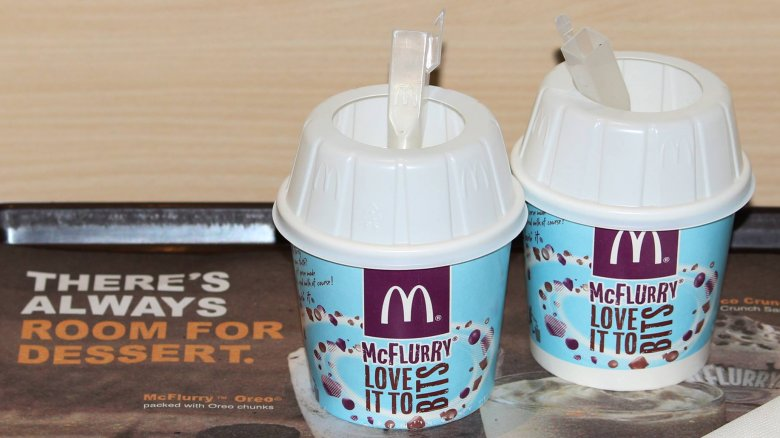mcdonalds: (376, 283, 438, 328), (607, 227, 666, 271)
